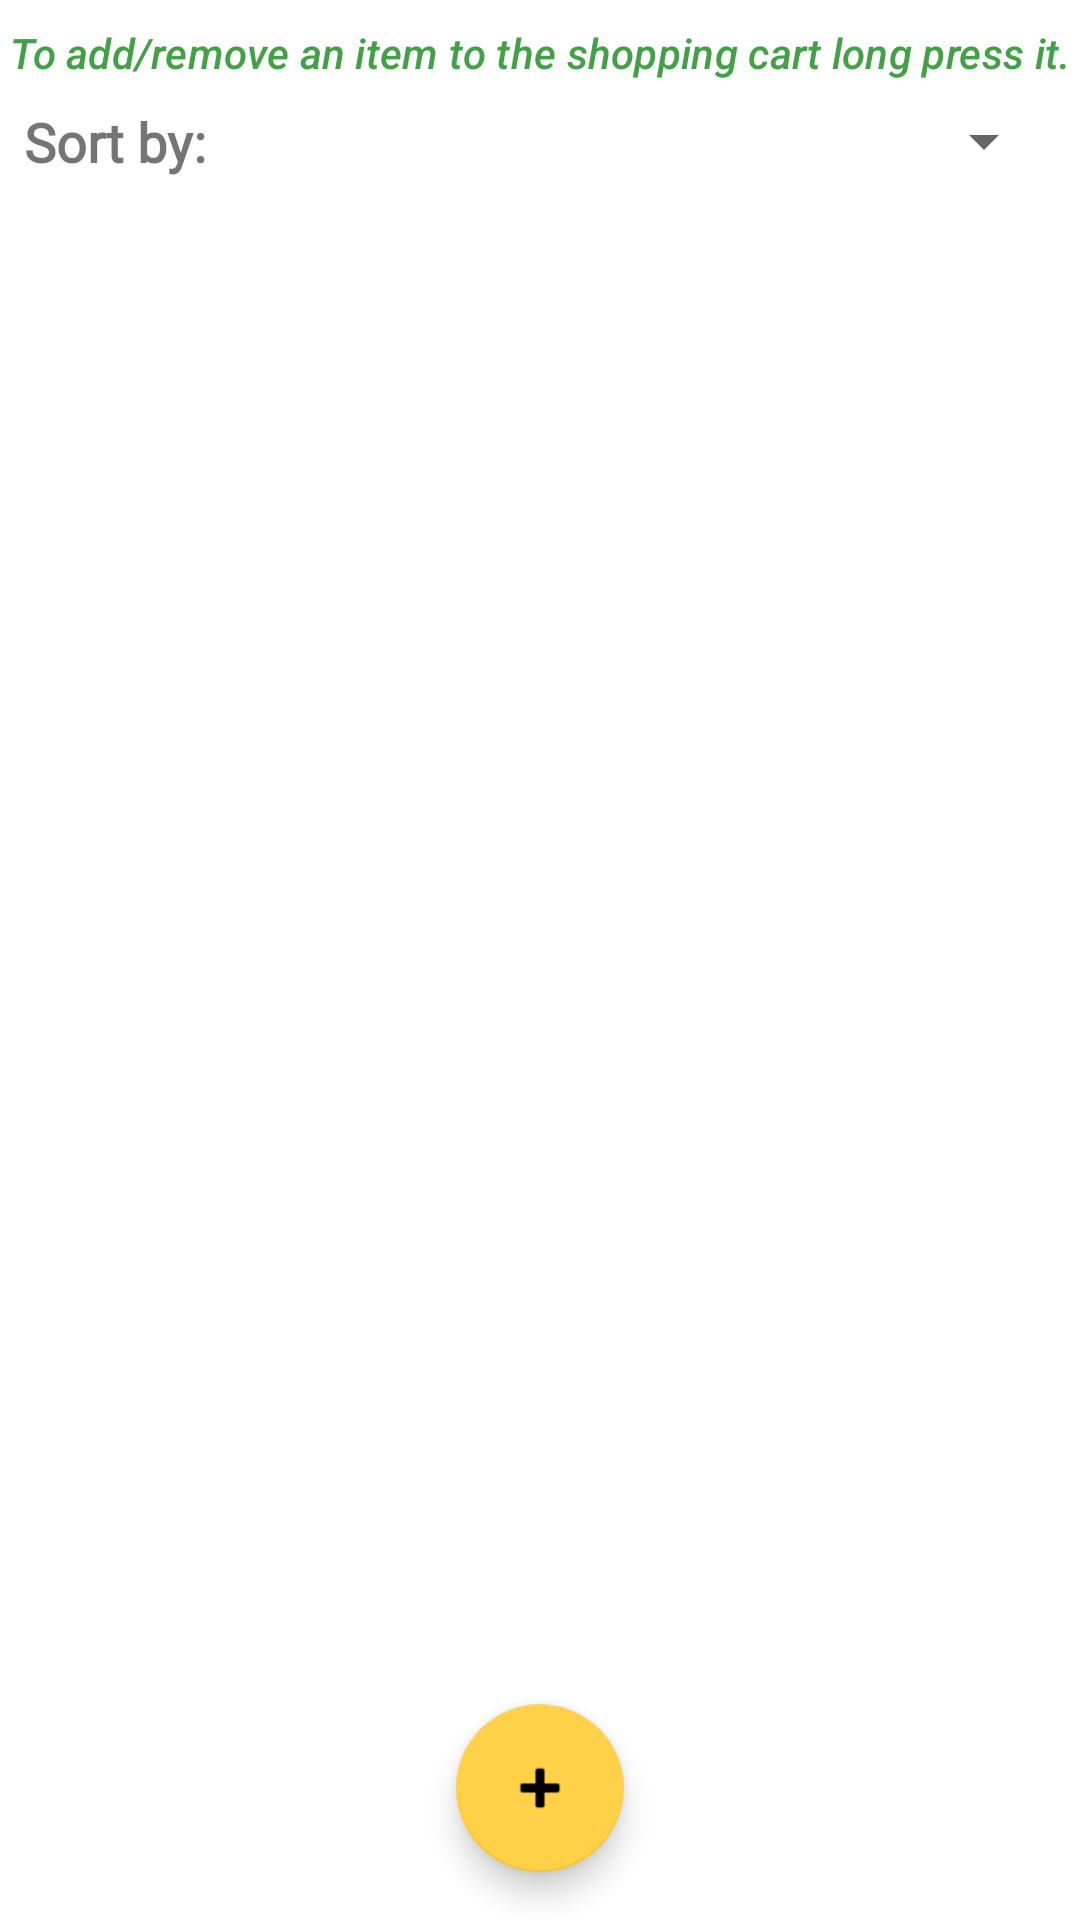

Locate icon controls on the screen. Image size 1080x1920, boxes as bbox=[x1, y1, x2, y2].
Add Product Button: bbox=[456, 1704, 624, 1872]
